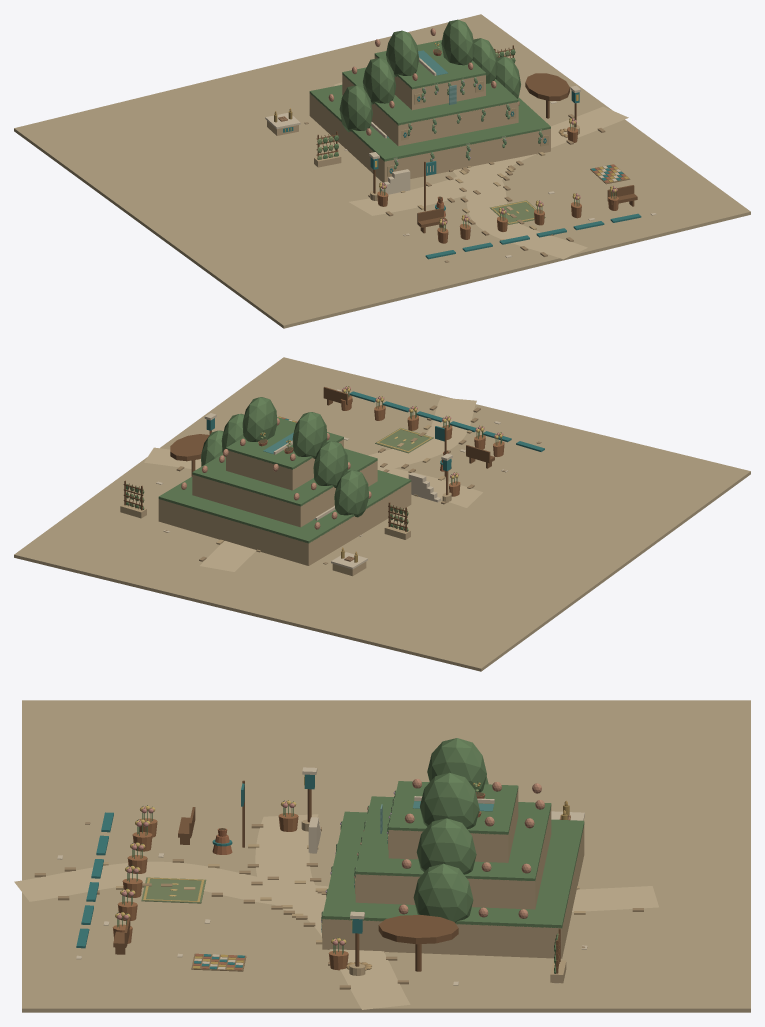
File: city-gardens.glb
3 views of the same model, one above another, from view 1: azimuth 30°, elevation 25°; view 2: azimuth 150°, elevation 25°; view 3: azimuth 270°, elevation 25° (orthographic). The views are drawn at different scales.
Parts seen in each view (by area): view 1: city-gardens; view 2: city-gardens; view 3: city-gardens.
Part boxes in pixels (bbox=[...]): city-gardens: bbox=[14, 14, 750, 328]; city-gardens: bbox=[14, 357, 750, 671]; city-gardens: bbox=[14, 700, 750, 1012].
Size of the model in its own units: 32.27 by 7.32 by 32.34.
